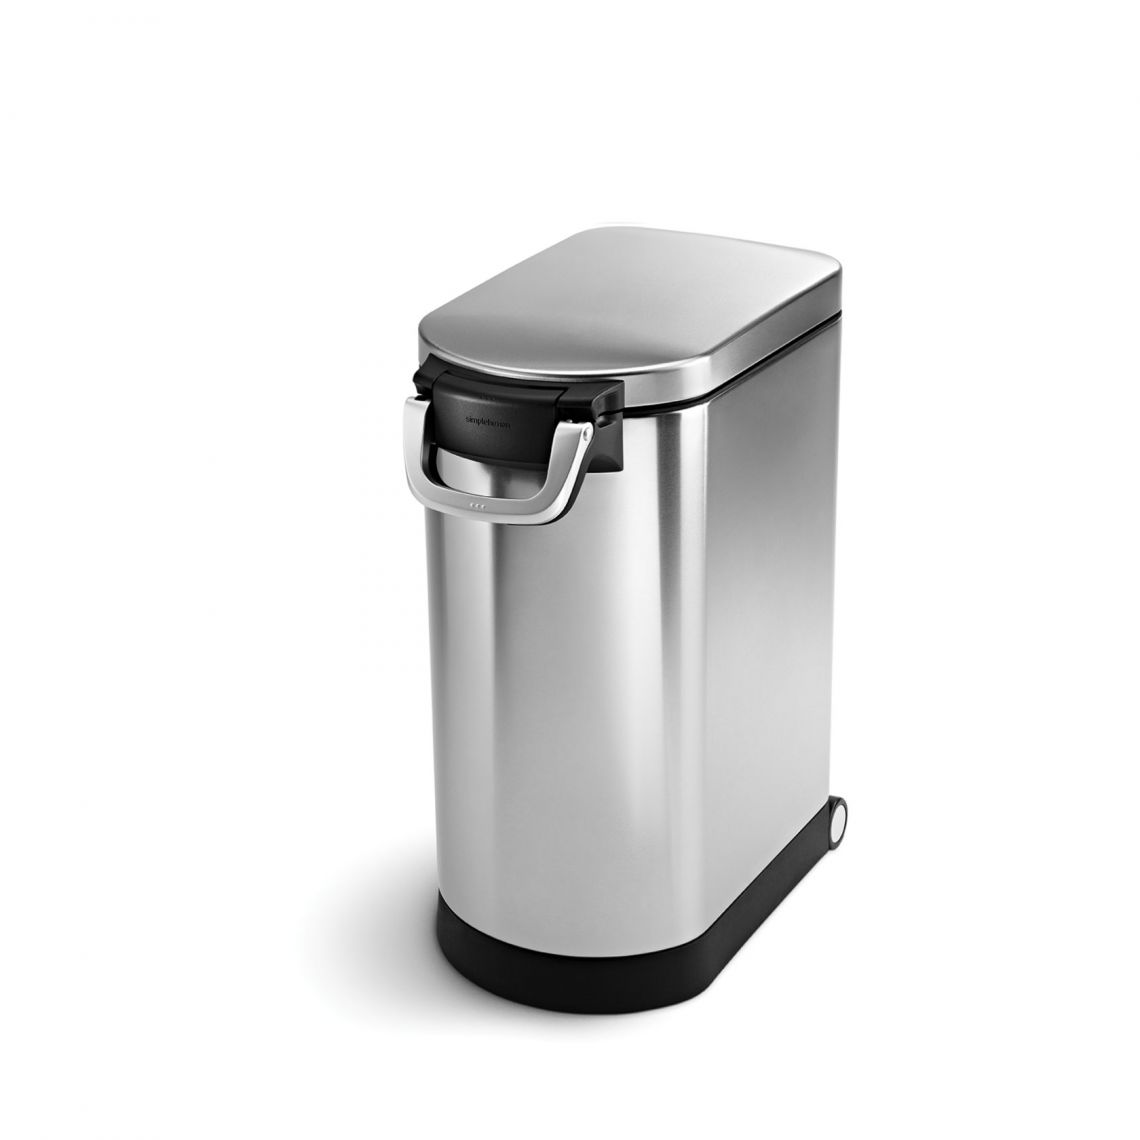metal: (396, 222, 852, 1020)
